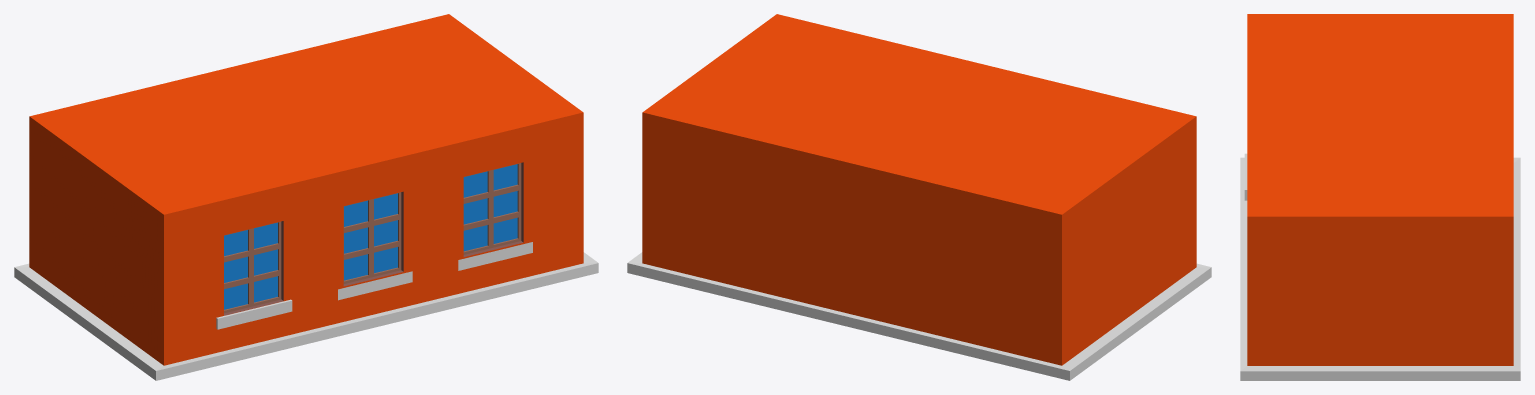
The model's file is orange.fbx.
3 views of the same model, side by side, from view 1: azimuth 30°, elevation 25°; view 2: azimuth 150°, elevation 25°; view 3: azimuth 270°, elevation 25° (orthographic).
Visible parts, largest first — view 1: yesil.001; view 2: yesil.001; view 3: yesil.001.
Boxes of the visible parts, bbox=[...] form: yesil.001: bbox=[14, 14, 598, 380]; yesil.001: bbox=[627, 14, 1211, 380]; yesil.001: bbox=[1240, 14, 1520, 380].
Size of the model in its own units: 625 by 217 by 347.
